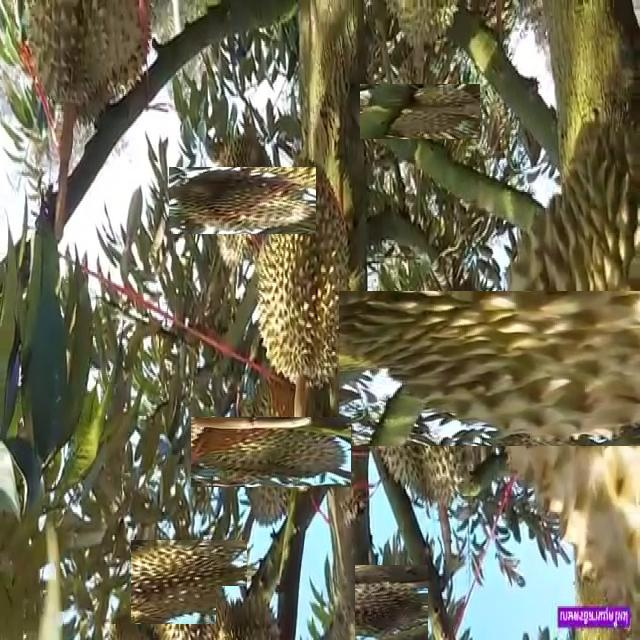durian: (411, 219, 640, 519), (257, 154, 351, 398), (366, 337, 479, 512), (21, 2, 156, 130), (391, 288, 518, 415), (213, 394, 329, 509), (189, 146, 296, 254), (139, 532, 240, 632), (376, 68, 464, 156), (353, 566, 429, 640), (216, 586, 287, 640)
